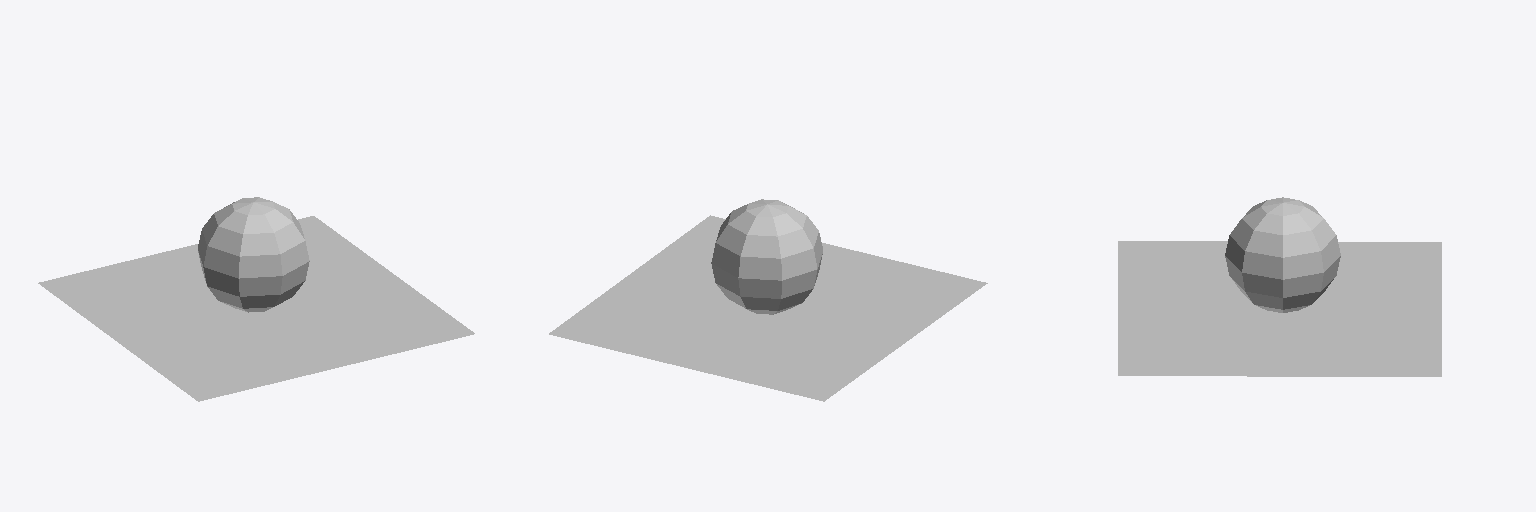
File: AirScene.obj
3 views of the same model, side by side, from view 1: azimuth 30°, elevation 25°; view 2: azimuth 150°, elevation 25°; view 3: azimuth 270°, elevation 25° (orthographic).
Visible parts, largest first — view 1: floor.001, spheres.002; view 2: floor.001, spheres.002; view 3: floor.001, spheres.002.
Boxes of the visible parts, box(x1,y1,x2,y2) form: floor.001: box(38, 216, 474, 401); spheres.002: box(198, 197, 309, 312); floor.001: box(549, 215, 987, 401); spheres.002: box(711, 199, 822, 314); floor.001: box(1118, 241, 1441, 376); spheres.002: box(1225, 197, 1340, 312).
Bounding box in the file's own units: 5.53 × 2.01 × 5.59.